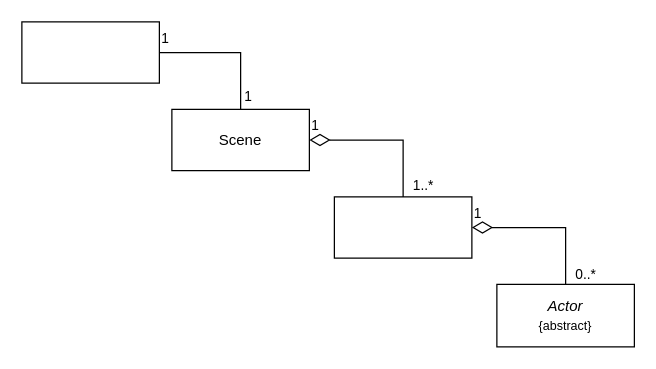
Image size: 656x369. Some labels were removed from this diagram. The centre of each missing label's shape, as x and y in pixels:
Controller (Game): the point at 90,52
Layer: the point at 402,227
